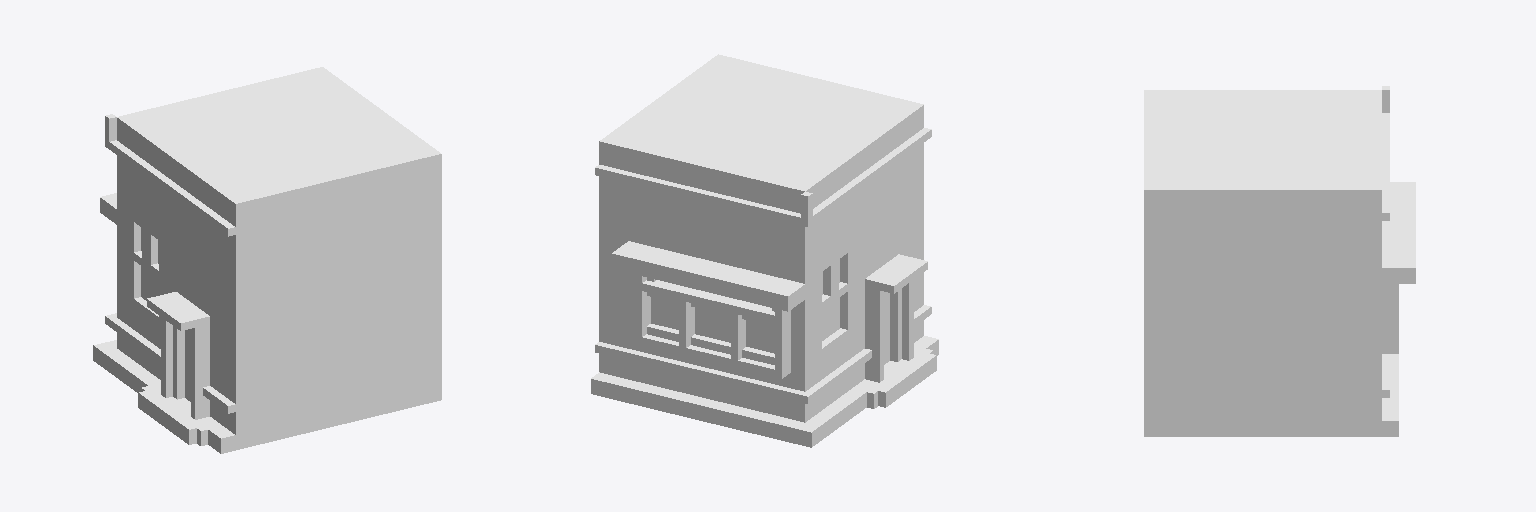
File: tile_1_right_nr_cor_90.obj
The picture shows the model from 3 angles: view 1: azimuth 30°, elevation 25°; view 2: azimuth 150°, elevation 25°; view 3: azimuth 270°, elevation 25°; orthographic projection.
Visible parts, largest first — view 1: object 1; view 2: object 1; view 3: object 1.
Part boxes in pixels (x1,y1,x2,y2): object 1: (93,67,441,453); object 1: (591,54,938,447); object 1: (1144,86,1415,436).
Bounding box in the file's own units: 3.2 × 3.2 × 3.2.